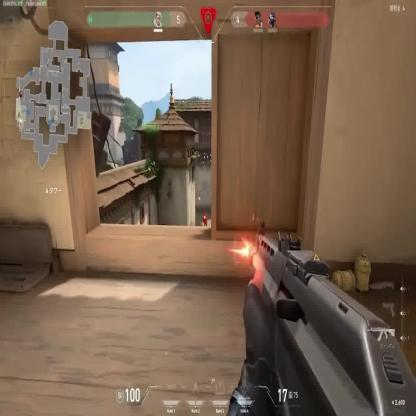enemy: (204, 213, 208, 228)
enemy_head: (204, 213, 206, 216)
